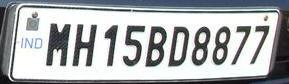1: (103, 23, 118, 67)
5: (120, 23, 145, 67)
7: (231, 24, 251, 67), (249, 23, 269, 66)
8: (190, 25, 210, 67), (211, 25, 229, 65)
B: (144, 24, 165, 67)
D: (167, 25, 190, 68)
H: (71, 22, 96, 67)
M: (44, 21, 71, 68)
